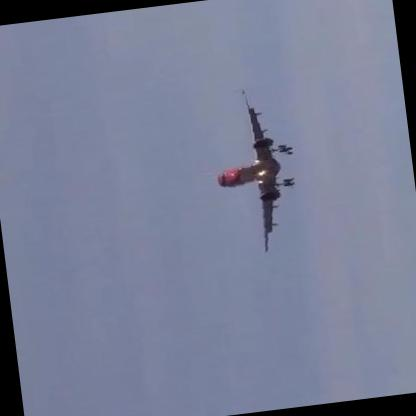plane: (198, 80, 306, 261)
